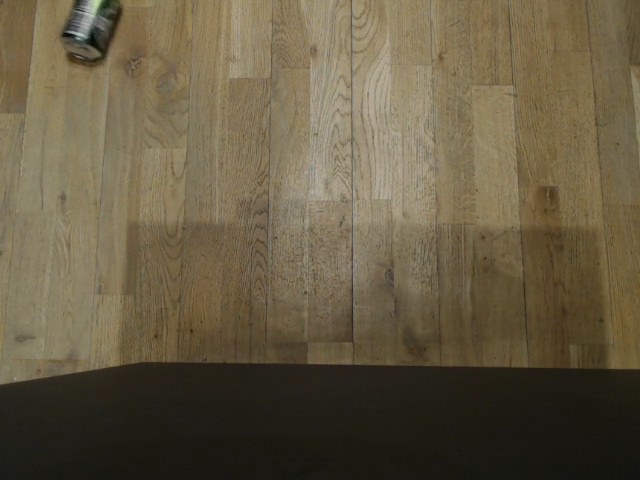beer: (58, 0, 120, 64)
